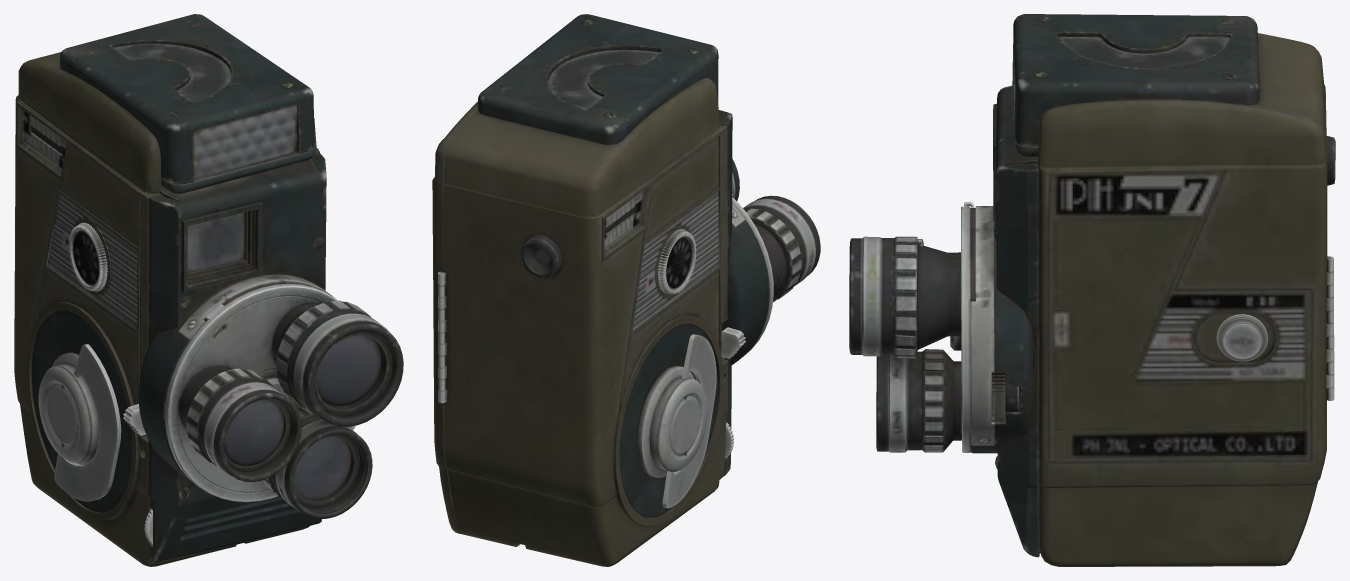
Rendered from vintage_video_camera.glb.
3 views of the same model, side by side, from view 1: azimuth 30°, elevation 25°; view 2: azimuth 150°, elevation 25°; view 3: azimuth 270°, elevation 25° (orthographic). The views are drawn at different scales.
Visible parts, largest first — view 1: vintage_video_camera; view 2: vintage_video_camera; view 3: vintage_video_camera.
Boxes of the visible parts, box(x1,y1,x2,y2) form: vintage_video_camera: box(14, 14, 403, 566); vintage_video_camera: box(432, 14, 820, 566); vintage_video_camera: box(849, 14, 1335, 566).
Bounding box in the file's own units: 0.0712 × 0.145 × 0.1326.
Materials: 2 (2 with a texture image).
